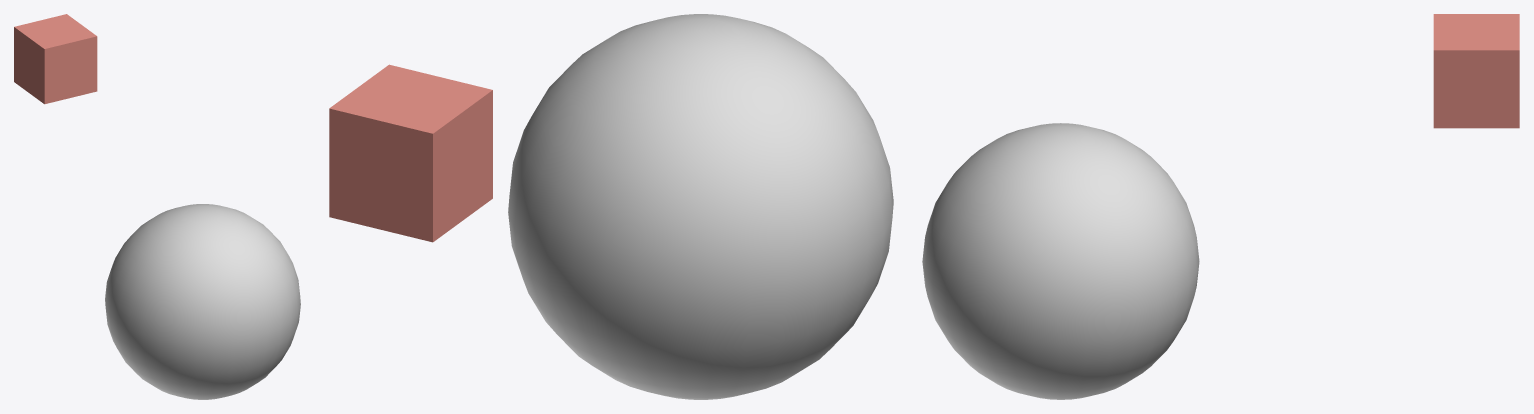
File: SphereLights.glb
The picture shows the model from 3 angles, left to right: view 1: azimuth 30°, elevation 25°; view 2: azimuth 150°, elevation 25°; view 3: azimuth 270°, elevation 25°; orthographic projection. The views are drawn at different scales.
Parts seen in each view (by area): view 1: Sphere, Cube; view 2: Sphere, Cube; view 3: Sphere, Cube.
Boxes of the visible parts, left/top/right/bottom form: Sphere: left=105, top=204, right=300, bottom=399; Cube: left=14, top=14, right=97, bottom=104; Sphere: left=508, top=14, right=893, bottom=399; Cube: left=329, top=64, right=492, bottom=242; Sphere: left=922, top=123, right=1199, bottom=399; Cube: left=1433, top=14, right=1519, bottom=128.
Bounding box in the file's own units: 2 × 2.83 × 4.31.
